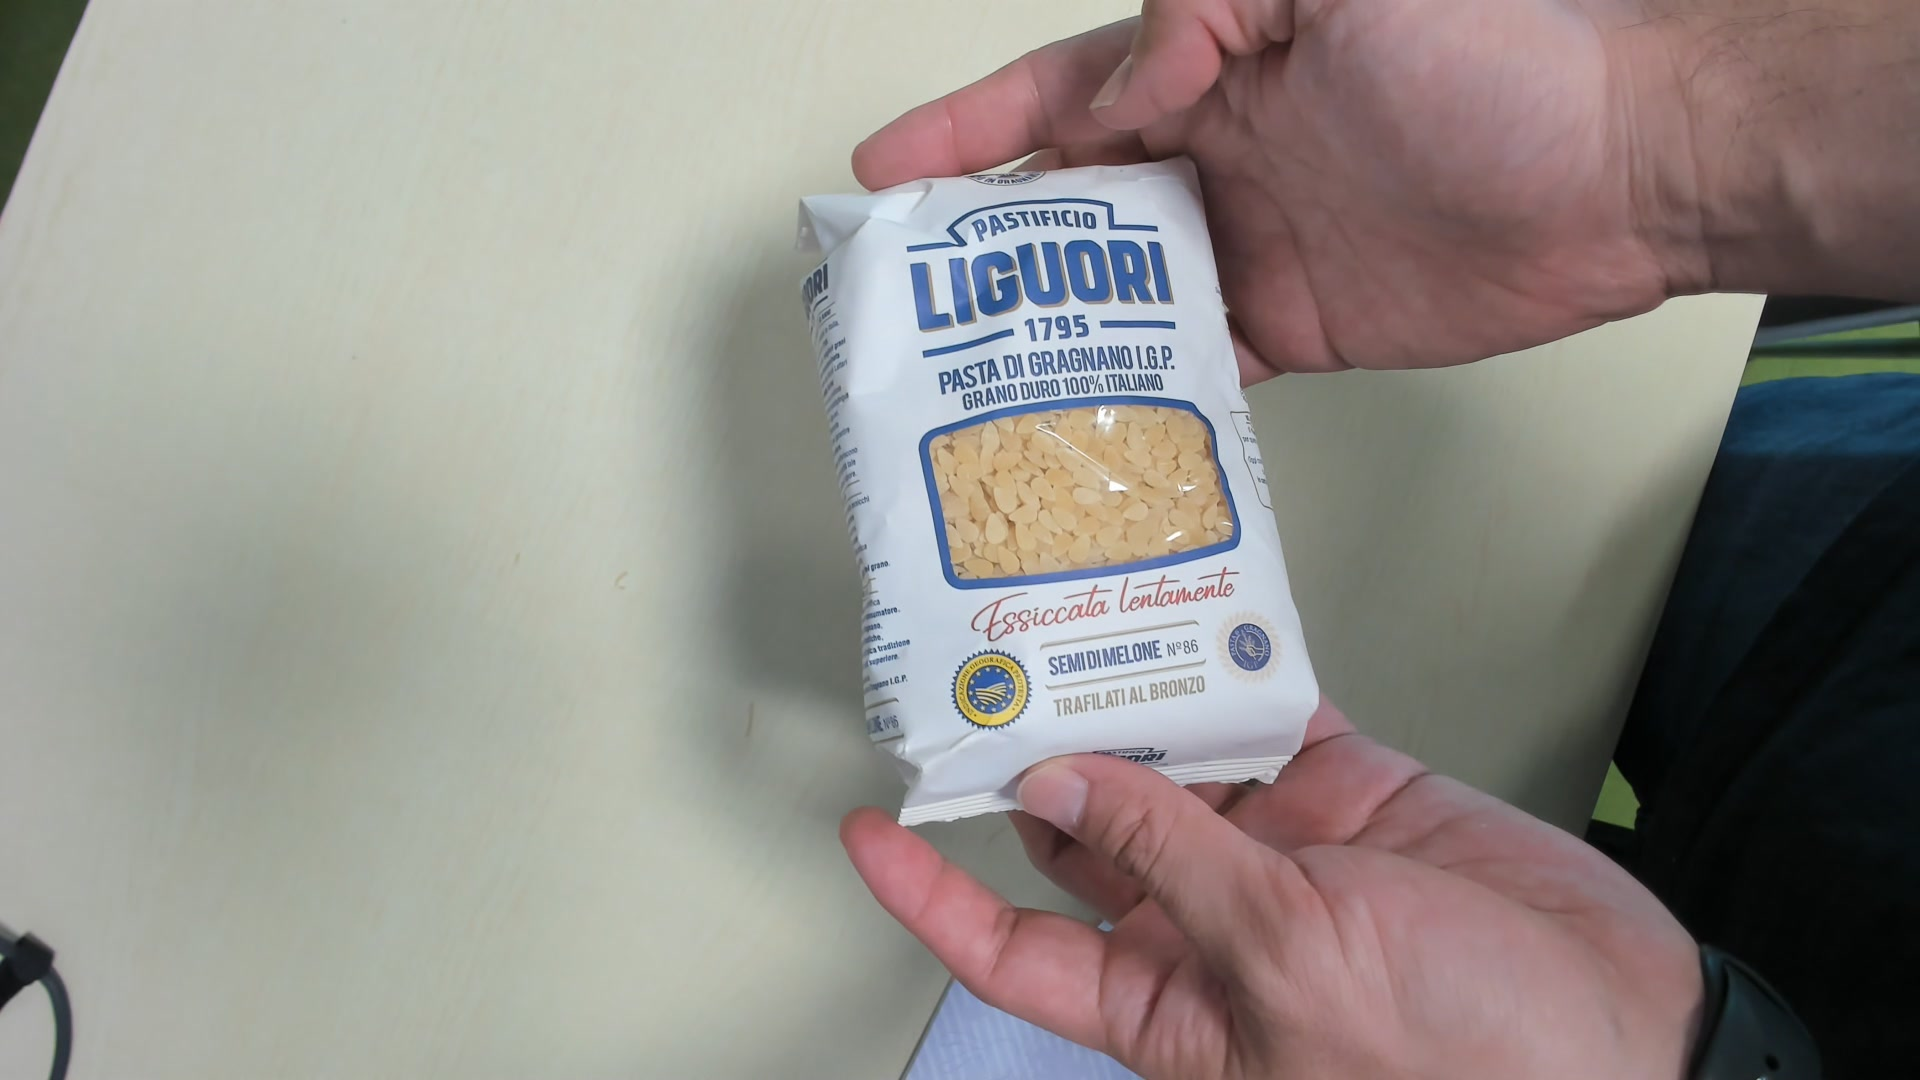Pasta_500-599g_NonHalal_NonHealthy: (802, 166, 1319, 807)
